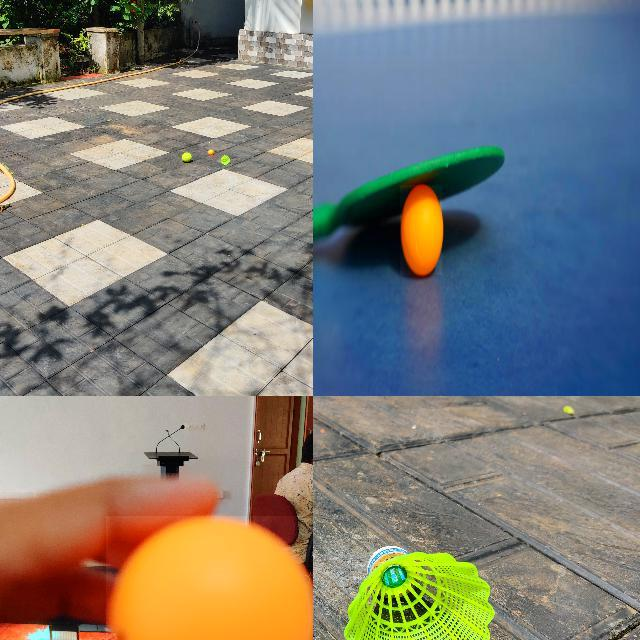ping-pong-ball: (105, 516, 312, 639), (400, 185, 443, 276), (208, 149, 212, 155)
